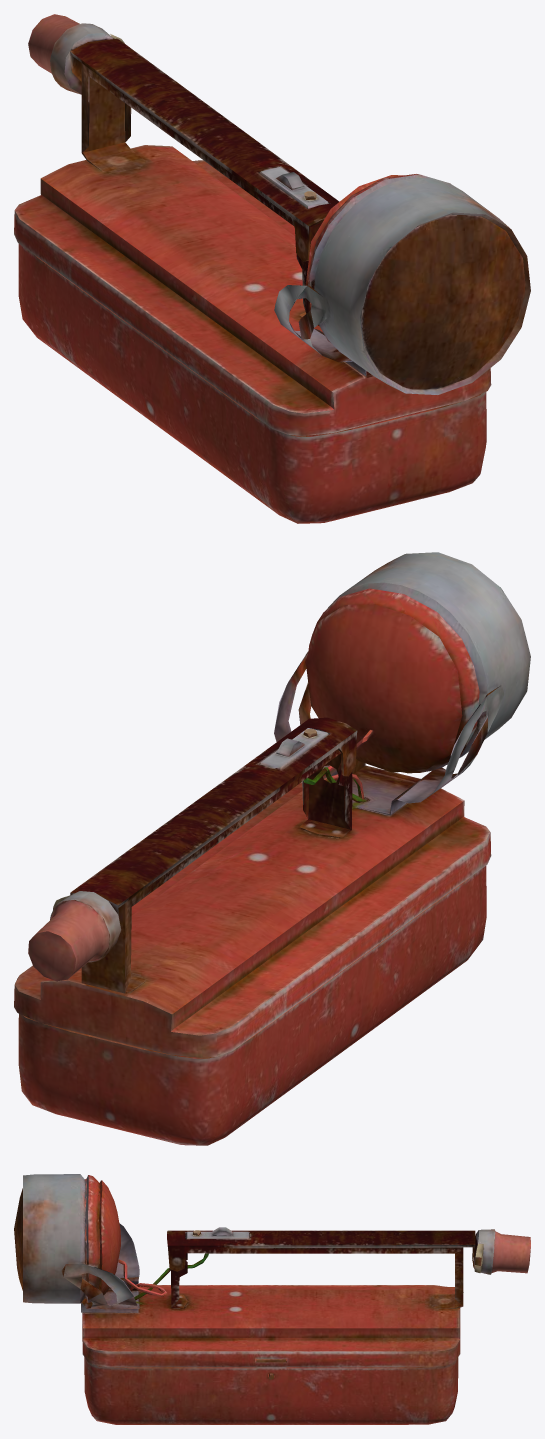
The model's file is vintage_flashlight.glb.
The picture shows the model from 3 angles, top to bottom: view 1: azimuth 30°, elevation 25°; view 2: azimuth 150°, elevation 25°; view 3: azimuth 270°, elevation 25°; orthographic projection. The views are drawn at different scales.
Visible parts, largest first — view 1: vintage_flashlight; view 2: vintage_flashlight; view 3: vintage_flashlight.
Boxes of the visible parts, bbox=[...] form: vintage_flashlight: bbox=[14, 14, 530, 523]; vintage_flashlight: bbox=[14, 552, 530, 1145]; vintage_flashlight: bbox=[14, 1174, 530, 1424].
Size of what is drawn, in the model's own units: 0.0957 by 0.1443 by 0.3055.
Materials: 1 (1 with a texture image).
